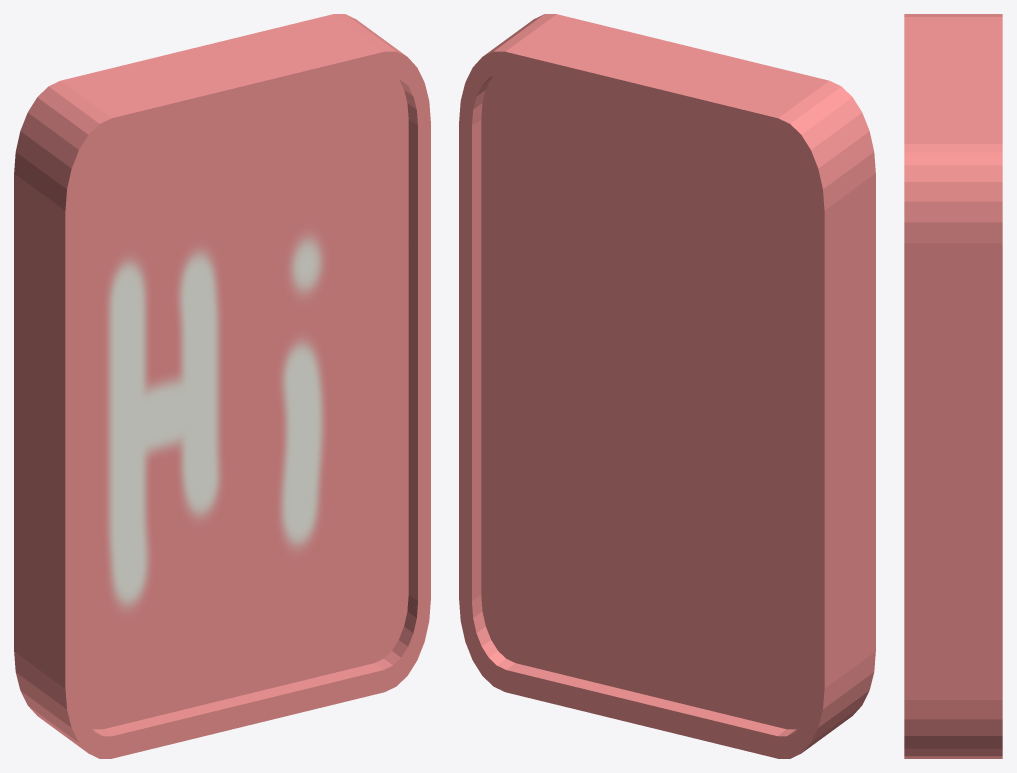
File: domino1.glb
3 renders of one model, left to right at view 1: azimuth 30°, elevation 25°; view 2: azimuth 150°, elevation 25°; view 3: azimuth 270°, elevation 25°, orthographic. The views are drawn at different scales.
Parts seen in each view (by area): view 1: Cube; view 2: Cube; view 3: Cube.
Part boxes in pixels (bbox=[...]): Cube: bbox=[14, 14, 430, 758]; Cube: bbox=[459, 14, 875, 758]; Cube: bbox=[904, 14, 1002, 758].
Bounding box in the file's own units: 3.46 × 5.8 × 0.8425.
1 material, 1 textured.
